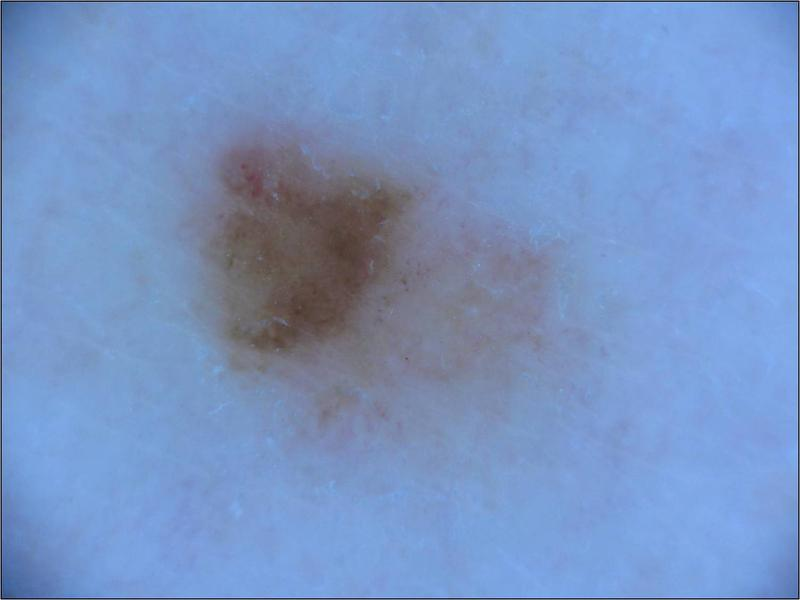Malignant: (204, 146, 382, 330)
